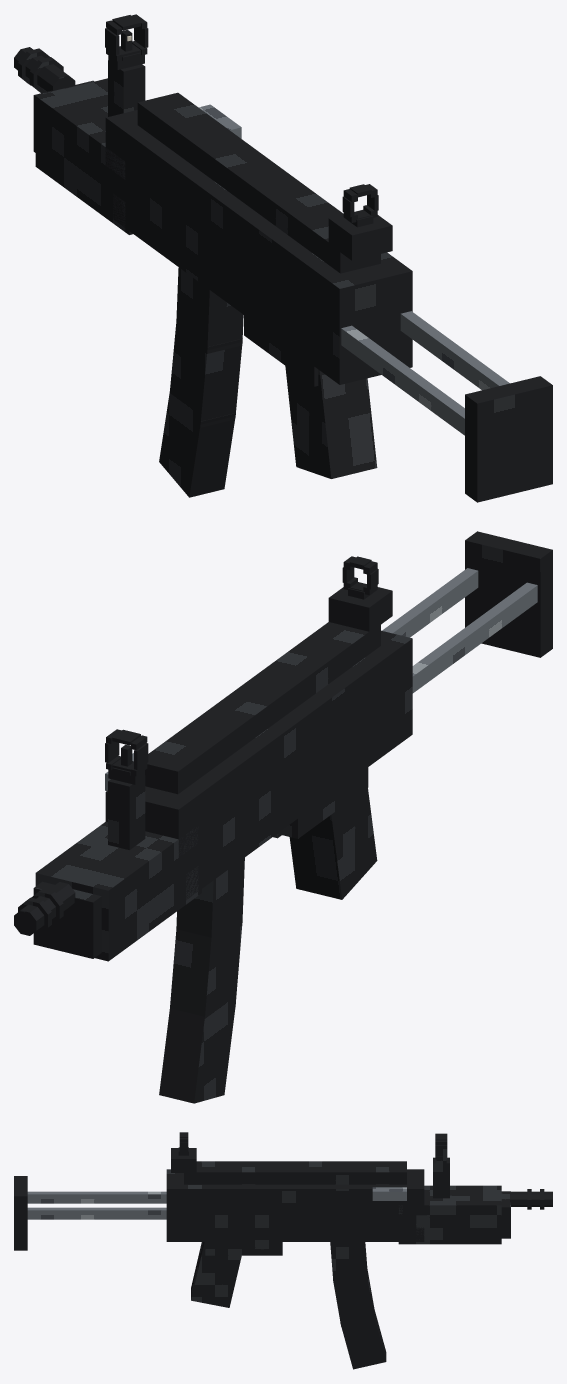
Rendered from wasp.glb.
3 renders of one model, top to bottom at view 1: azimuth 30°, elevation 25°; view 2: azimuth 150°, elevation 25°; view 3: azimuth 270°, elevation 25°, orthographic. The views are drawn at different scales.
Parts seen in each view (by area): view 1: Body, Mag; view 2: Body, Mag; view 3: Body, Mag.
Boxes of the visible parts, x1=… form: Body: x1=14, y1=14, x2=552, y2=502; Mag: x1=159, y1=267, x2=243, y2=497; Body: x1=14, y1=531, x2=552, y2=961; Mag: x1=159, y1=857, x2=244, y2=1103; Body: x1=14, y1=1132, x2=552, y2=1307; Mag: x1=330, y1=1242, x2=386, y2=1369.
Bounding box in the file's own units: 0.067 × 0.2951 × 0.628.
4 materials, 4 textured.
